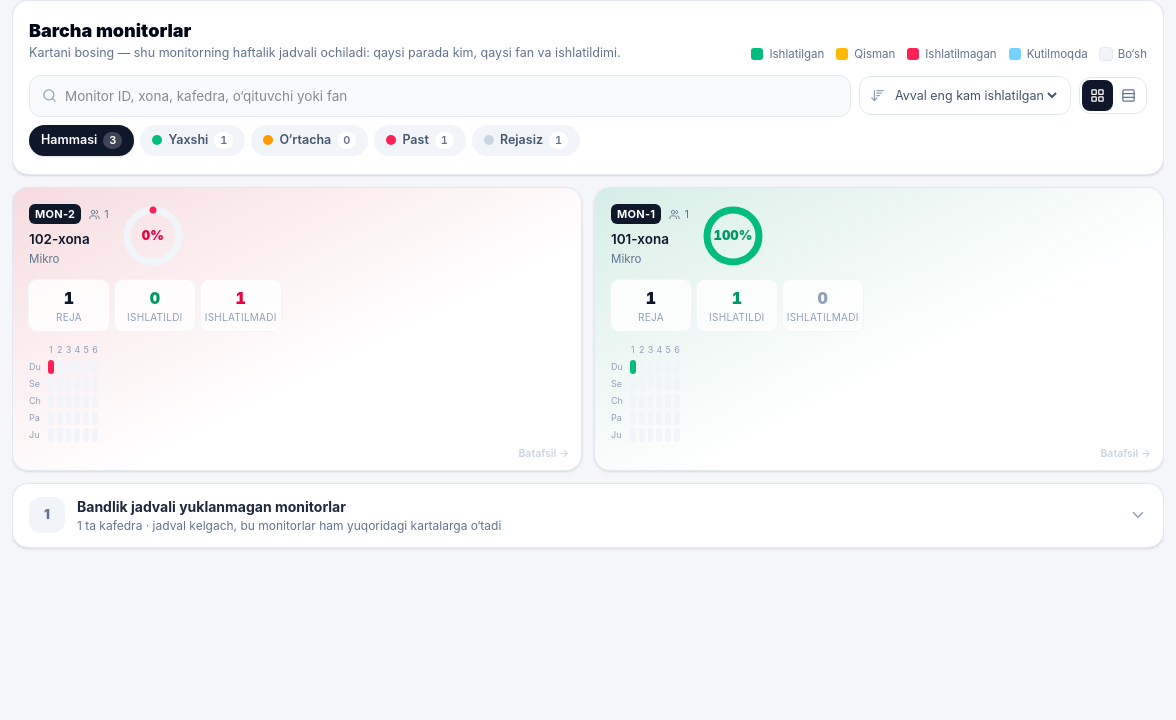
Scenario: MonitorExplorer › shows scheduled monitors as cards and hides unscheduled ones in a collapsed list
Expected: the text "101-xona" is shown, [611,231,669,247]
Expected: the text "103-xona" is not shown
Click the text "Bandlik jadvali yuklanmagan monitorlar".
click(212, 506)  # box [77,498,346,515]
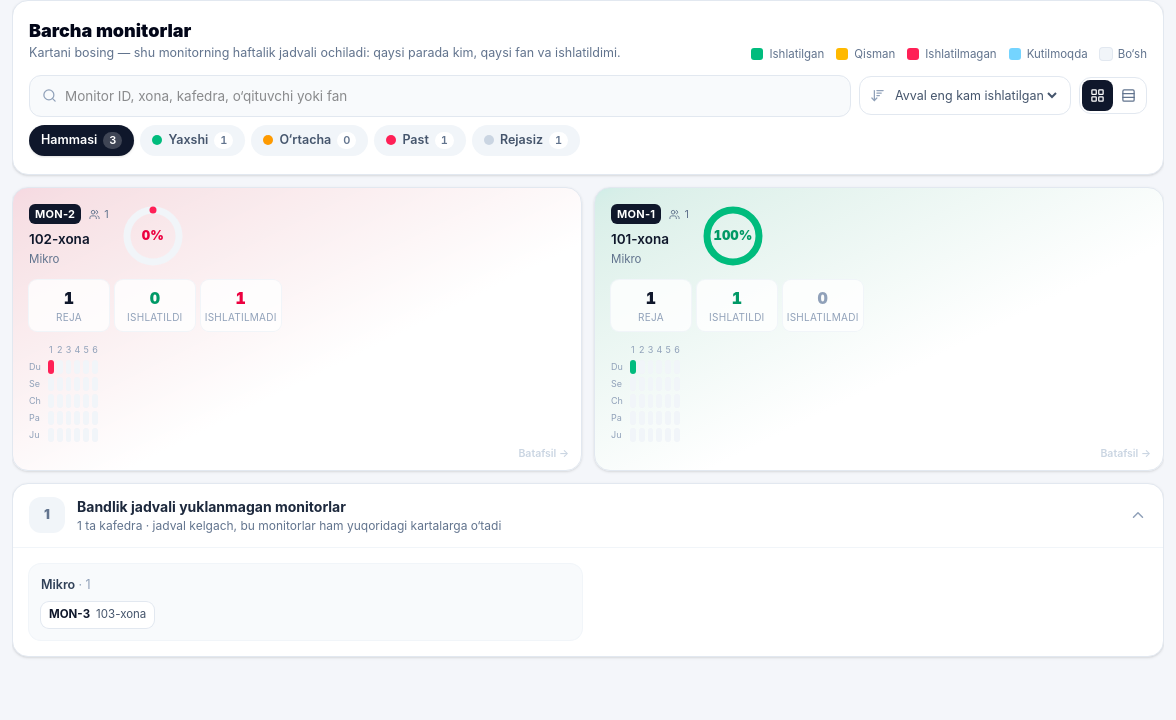
Expected: the text "103-xona" is shown, [96,606,146,624]
